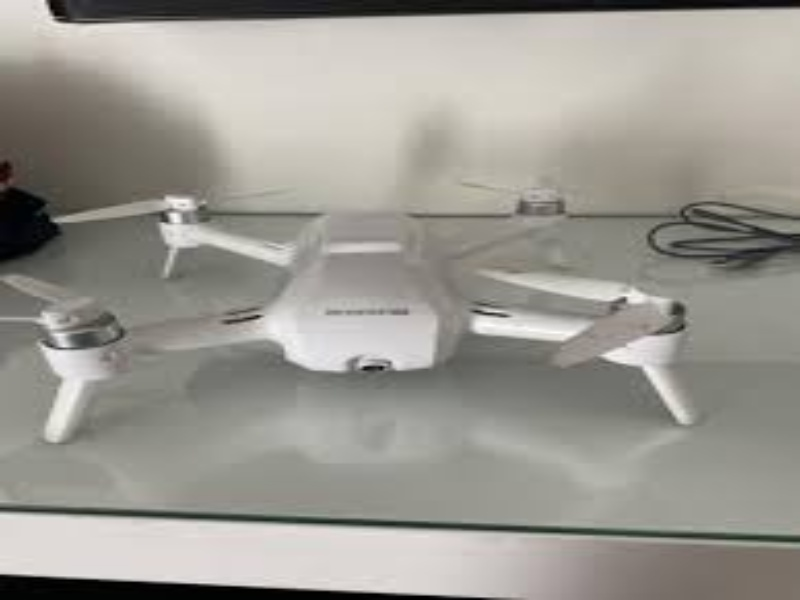drone: (20, 183, 714, 459)
